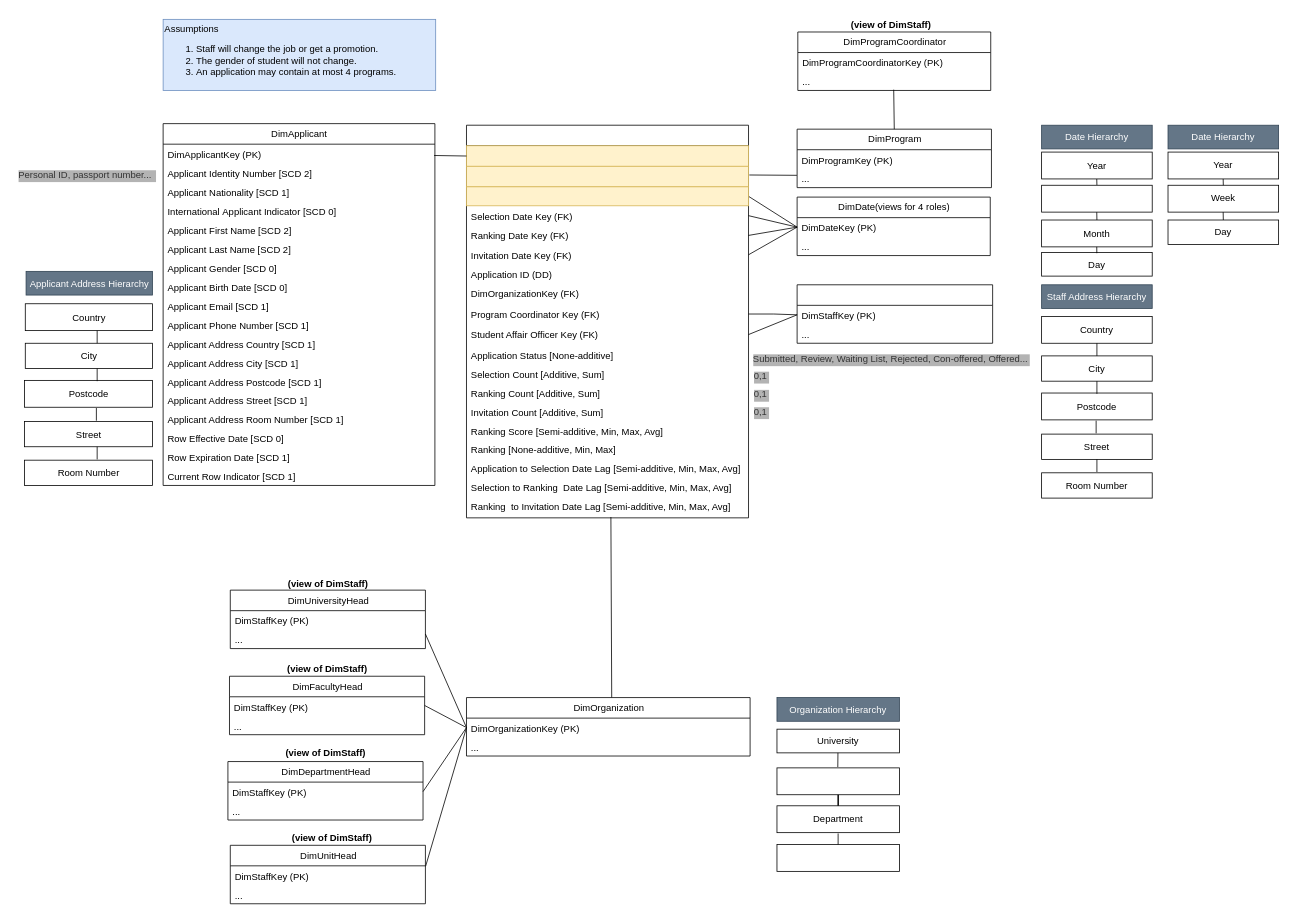
Image size: 1292x920. Some labels were removed from this diagram. The box of each missing label's shape, as (x1, y1, x2, y2) in pixels:
Application Date Key (FK)(PK): (466, 186, 749, 206)
DimApplicantKey (FK)(PK): (466, 145, 749, 166)
DimProgramKey (FK)(PK): (466, 166, 749, 187)
DimStaff (views for 2 roles): (796, 284, 993, 343)
Fact Program Application: (466, 124, 749, 518)
Faculty: (776, 767, 899, 795)
Quarter: (1041, 184, 1152, 212)
Unit: (776, 844, 899, 871)
